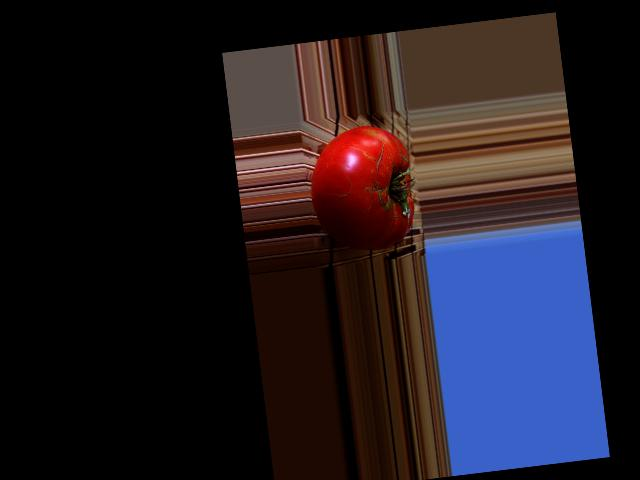tomato: (305, 121, 419, 256)
